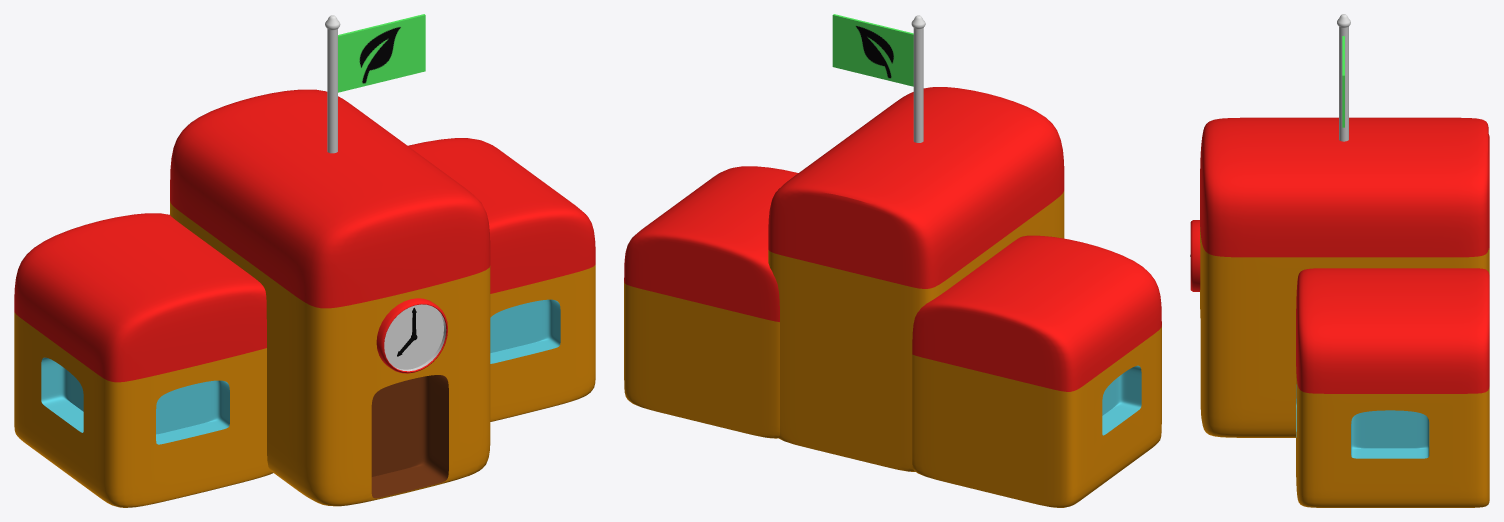
The model's file is VegetalSchool.fbx.
3 renders of one model, left to right at view 1: azimuth 30°, elevation 25°; view 2: azimuth 150°, elevation 25°; view 3: azimuth 270°, elevation 25°, orthographic. The views are drawn at different scales.
Visible parts, largest first — view 1: SubBase, Base, Flag, Cylinder, BaseFlag; view 2: SubBase, Base, Flag, BaseFlag; view 3: Base, SubBase, BaseFlag, Cylinder.
Part boxes in pixels (<box>): SubBase: <box>14,138,595,507</box>; Base: <box>170,89,490,506</box>; Flag: <box>338,14,425,92</box>; Cylinder: <box>376,298,447,373</box>; BaseFlag: <box>325,15,340,153</box>; SubBase: <box>624,166,1161,507</box>; Base: <box>768,87,1064,471</box>; Flag: <box>832,14,913,86</box>; BaseFlag: <box>911,15,925,142</box>; Base: <box>1200,117,1488,437</box>; SubBase: <box>1296,134,1489,507</box>; BaseFlag: <box>1337,14,1350,141</box>; Cylinder: <box>1190,220,1200,291</box>.
Bounding box in the file's own units: 538 × 440 × 309.
Materials: 8 (1 with a texture image).
